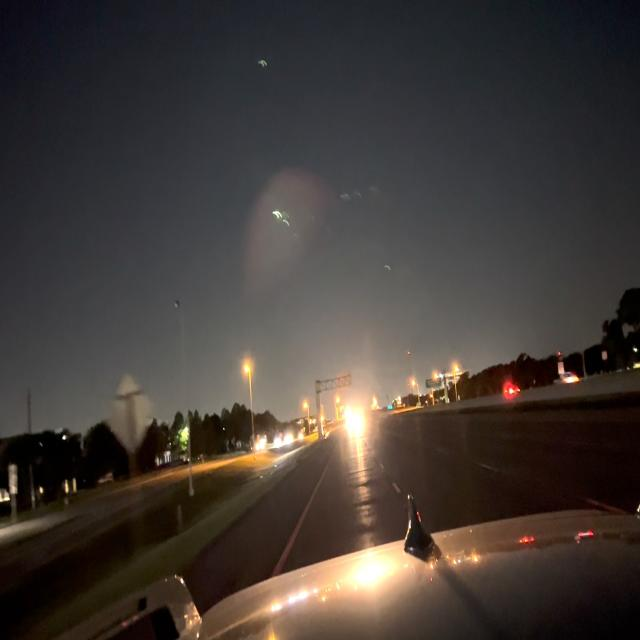back-of-sign: (108, 368, 154, 457)
